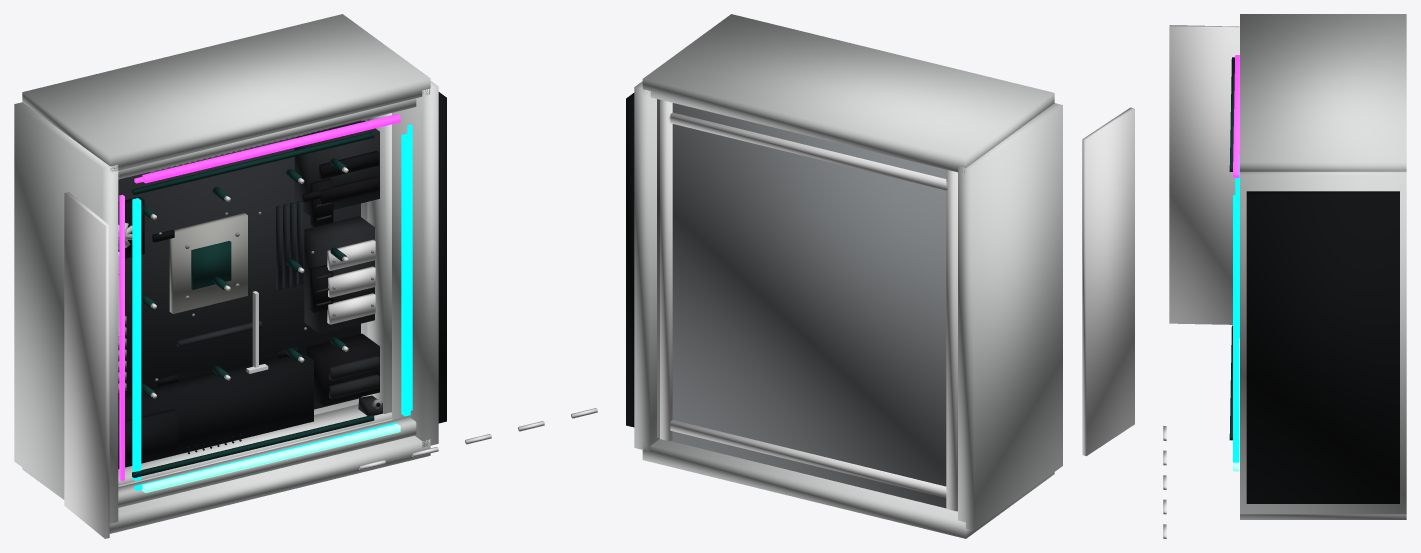
The model's file is case_static.glb.
3 renders of one model, left to right at view 1: azimuth 30°, elevation 25°; view 2: azimuth 150°, elevation 25°; view 3: azimuth 270°, elevation 25°, orthographic. The views are drawn at different scales.
Parts seen in each view (by area): view 1: Profundidad_Case_techo_3D, Profundidad_Case_pared_izquierda_3D, gabinete_panel_trasero_interior_grafito, Profundidad_Case_panel_vidrio_lateral_abierto, Profundidad_Case_pared_derecha_3D, cubierta_fuente_poder_gris, Profundidad_Case_base_3D, recorte_cpu_panel_trasero, gabinete_marco_derecho_blanco, Profundidad_Case_labio_frontal_inferior, jaula_bahias_discos_derecha, jaula_bahias_superior_derecha (+24 smaller); view 2: Profundidad_Case_backplate_real, Profundidad_Case_pared_izquierda_3D, Profundidad_Case_techo_3D, Profundidad_Case_panel_vidrio_lateral_abierto, Profundidad_Case_base_3D, Profundidad_Case_pared_derecha_3D, Profundidad_Case_columna_trasera_-1.3, Profundidad_Case_columna_trasera_-5.2, Profundidad_Case_travesano_trasero_4.1, Profundidad_Case_travesano_trasero_0.0, Profundidad_Case_frontal_malla_extruida; view 3: Profundidad_Case_frontal_malla_extruida, Profundidad_Case_techo_3D, Profundidad_Case_panel_vidrio_lateral_abierto, Profundidad_Case_pared_derecha_3D, RGB_revision_barra_vertical_derecha_visible, Profundidad_Case_base_3D, RGB_revision_barra_superior_visible, RGB_revision_marco_motherboard_final_top.
Boxes of the visible parts, left/top/right/bottom form: Profundidad_Case_techo_3D: left=22, top=14, right=430, bottom=171; Profundidad_Case_pared_izquierda_3D: left=14, top=102, right=118, bottom=523; gabinete_panel_trasero_interior_grafito: left=118, top=120, right=360, bottom=409; Profundidad_Case_panel_vidrio_lateral_abierto: left=64, top=192, right=109, bottom=538; Profundidad_Case_pared_derecha_3D: left=361, top=81, right=438, bottom=447; cubierta_fuente_poder_gris: left=118, top=350, right=313, bottom=468; Profundidad_Case_base_3D: left=22, top=397, right=430, bottom=533; recorte_cpu_panel_trasero: left=169, top=213, right=247, bottom=313; gabinete_marco_derecho_blanco: left=367, top=113, right=391, bottom=413; Profundidad_Case_labio_frontal_inferior: left=118, top=416, right=416, bottom=507; jaula_bahias_discos_derecha: left=304, top=216, right=374, bottom=333; jaula_bahias_superior_derecha: left=294, top=120, right=379, bottom=215; Profundidad_Case_backplate_real: left=657, top=99, right=957, bottom=511; Profundidad_Case_pared_izquierda_3D: left=958, top=103, right=1062, bottom=530; Profundidad_Case_techo_3D: left=642, top=14, right=1054, bottom=172; Profundidad_Case_panel_vidrio_lateral_abierto: left=1082, top=107, right=1134, bottom=456; Profundidad_Case_base_3D: left=642, top=439, right=1054, bottom=538; Profundidad_Case_pared_derecha_3D: left=634, top=81, right=659, bottom=451; Profundidad_Case_columna_trasera_-1.3: left=660, top=100, right=672, bottom=441; Profundidad_Case_columna_trasera_-5.2: left=946, top=170, right=957, bottom=511; Profundidad_Case_travesano_trasero_4.1: left=669, top=112, right=947, bottom=190; Profundidad_Case_travesano_trasero_0.0: left=670, top=420, right=947, bottom=497; Profundidad_Case_frontal_malla_extruida: left=626, top=93, right=634, bottom=427; Profundidad_Case_frontal_malla_extruida: left=1246, top=191, right=1399, bottom=503; Profundidad_Case_techo_3D: left=1240, top=14, right=1406, bottom=171; Profundidad_Case_panel_vidrio_lateral_abierto: left=1169, top=25, right=1239, bottom=324; Profundidad_Case_pared_derecha_3D: left=1240, top=171, right=1406, bottom=514; RGB_revision_barra_vertical_derecha_visible: left=1233, top=195, right=1239, bottom=462; Profundidad_Case_base_3D: left=1240, top=514, right=1406, bottom=519; RGB_revision_barra_superior_visible: left=1233, top=55, right=1239, bottom=177; RGB_revision_marco_motherboard_final_top: left=1229, top=57, right=1234, bottom=171.
Size of the model in its own units: 7.84 by 5.78 by 3.56.
